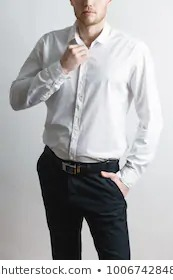F_belt: (42, 152, 117, 172)
F_dress pants: (35, 144, 129, 260)
F_shirt: (7, 20, 159, 178)
